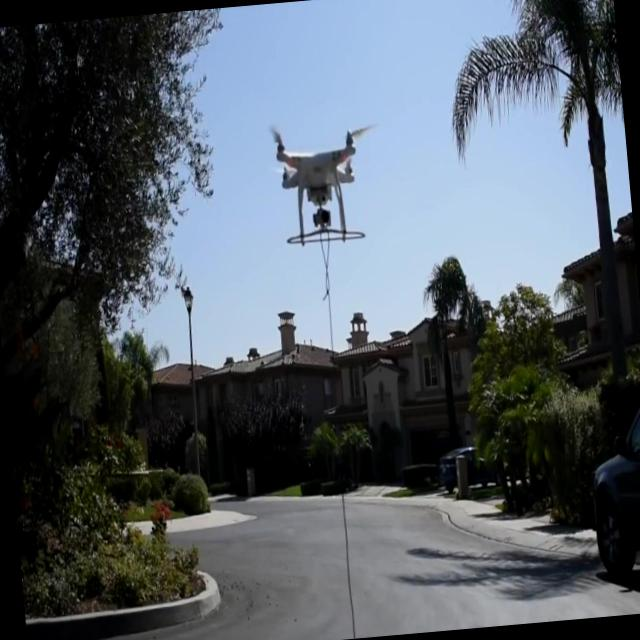drone: (268, 116, 372, 246)
